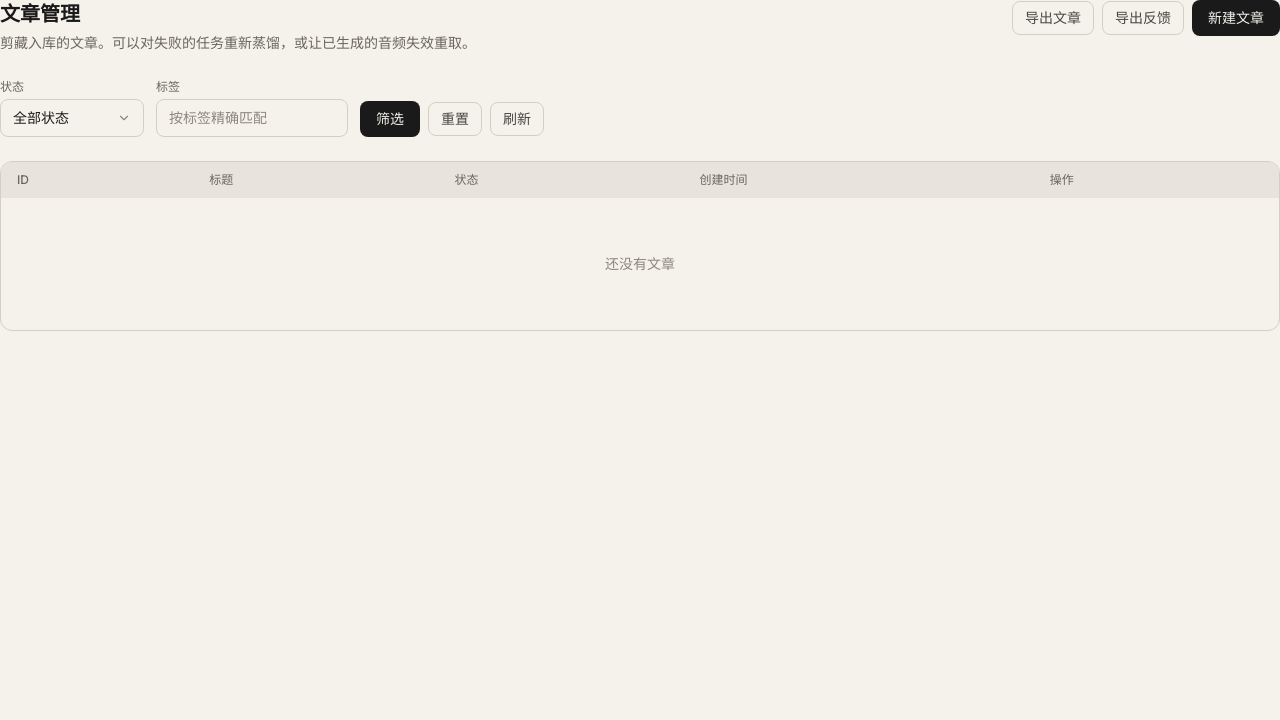
Test: 新建文章抽屉 · 三种录入方式 › 默认是链接模式，URL 为空时报「URL 不能为空」
Click the button "新建文章".
click(1236, 18)  # box [1192,0,1279,36]
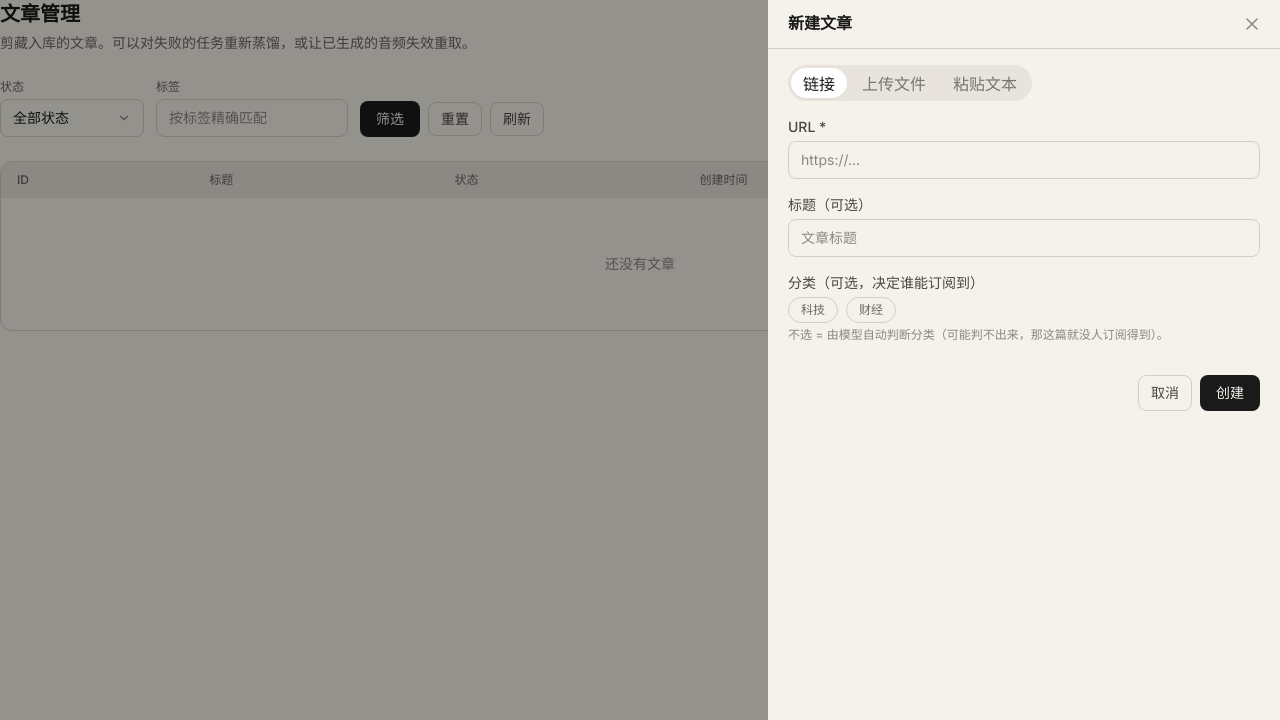
Check: the dialog is shown, box [768,0,1279,719]
Click the button named "确认创建文章".
click(1230, 393)  # box [1200,375,1260,411]
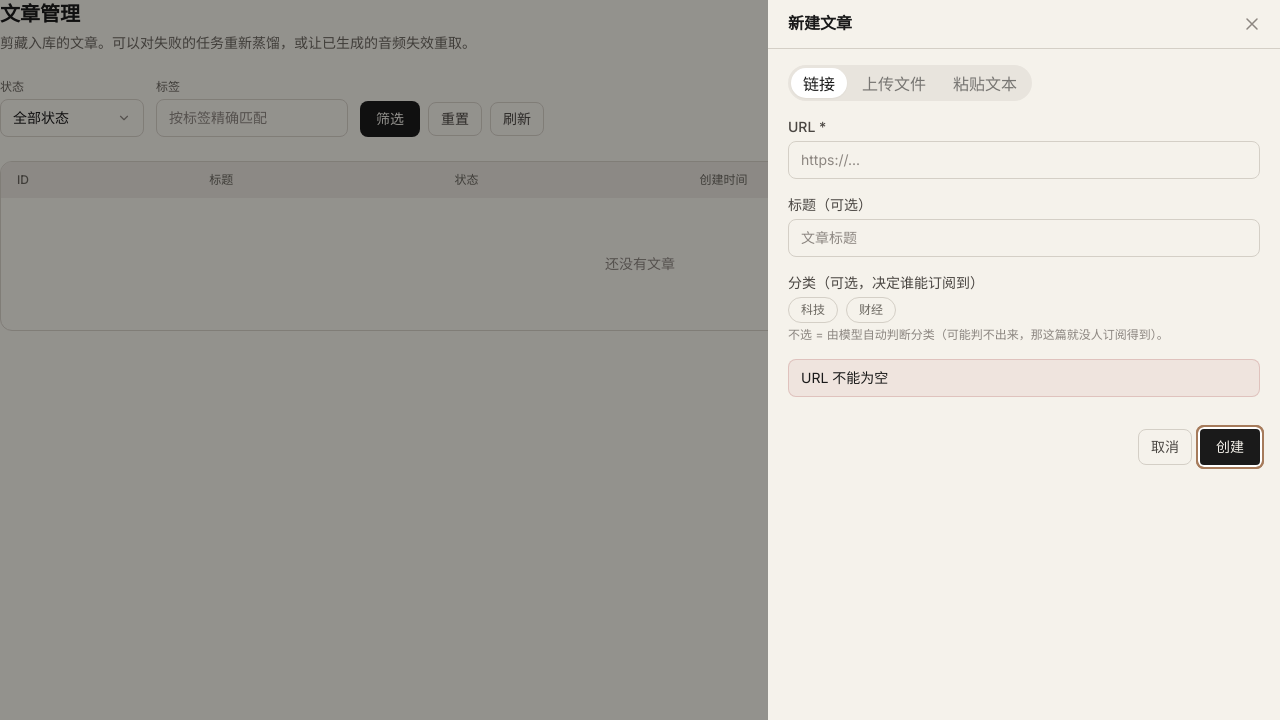
Check: the text "URL 不能为空" is shown, box [788,359,1260,397]
